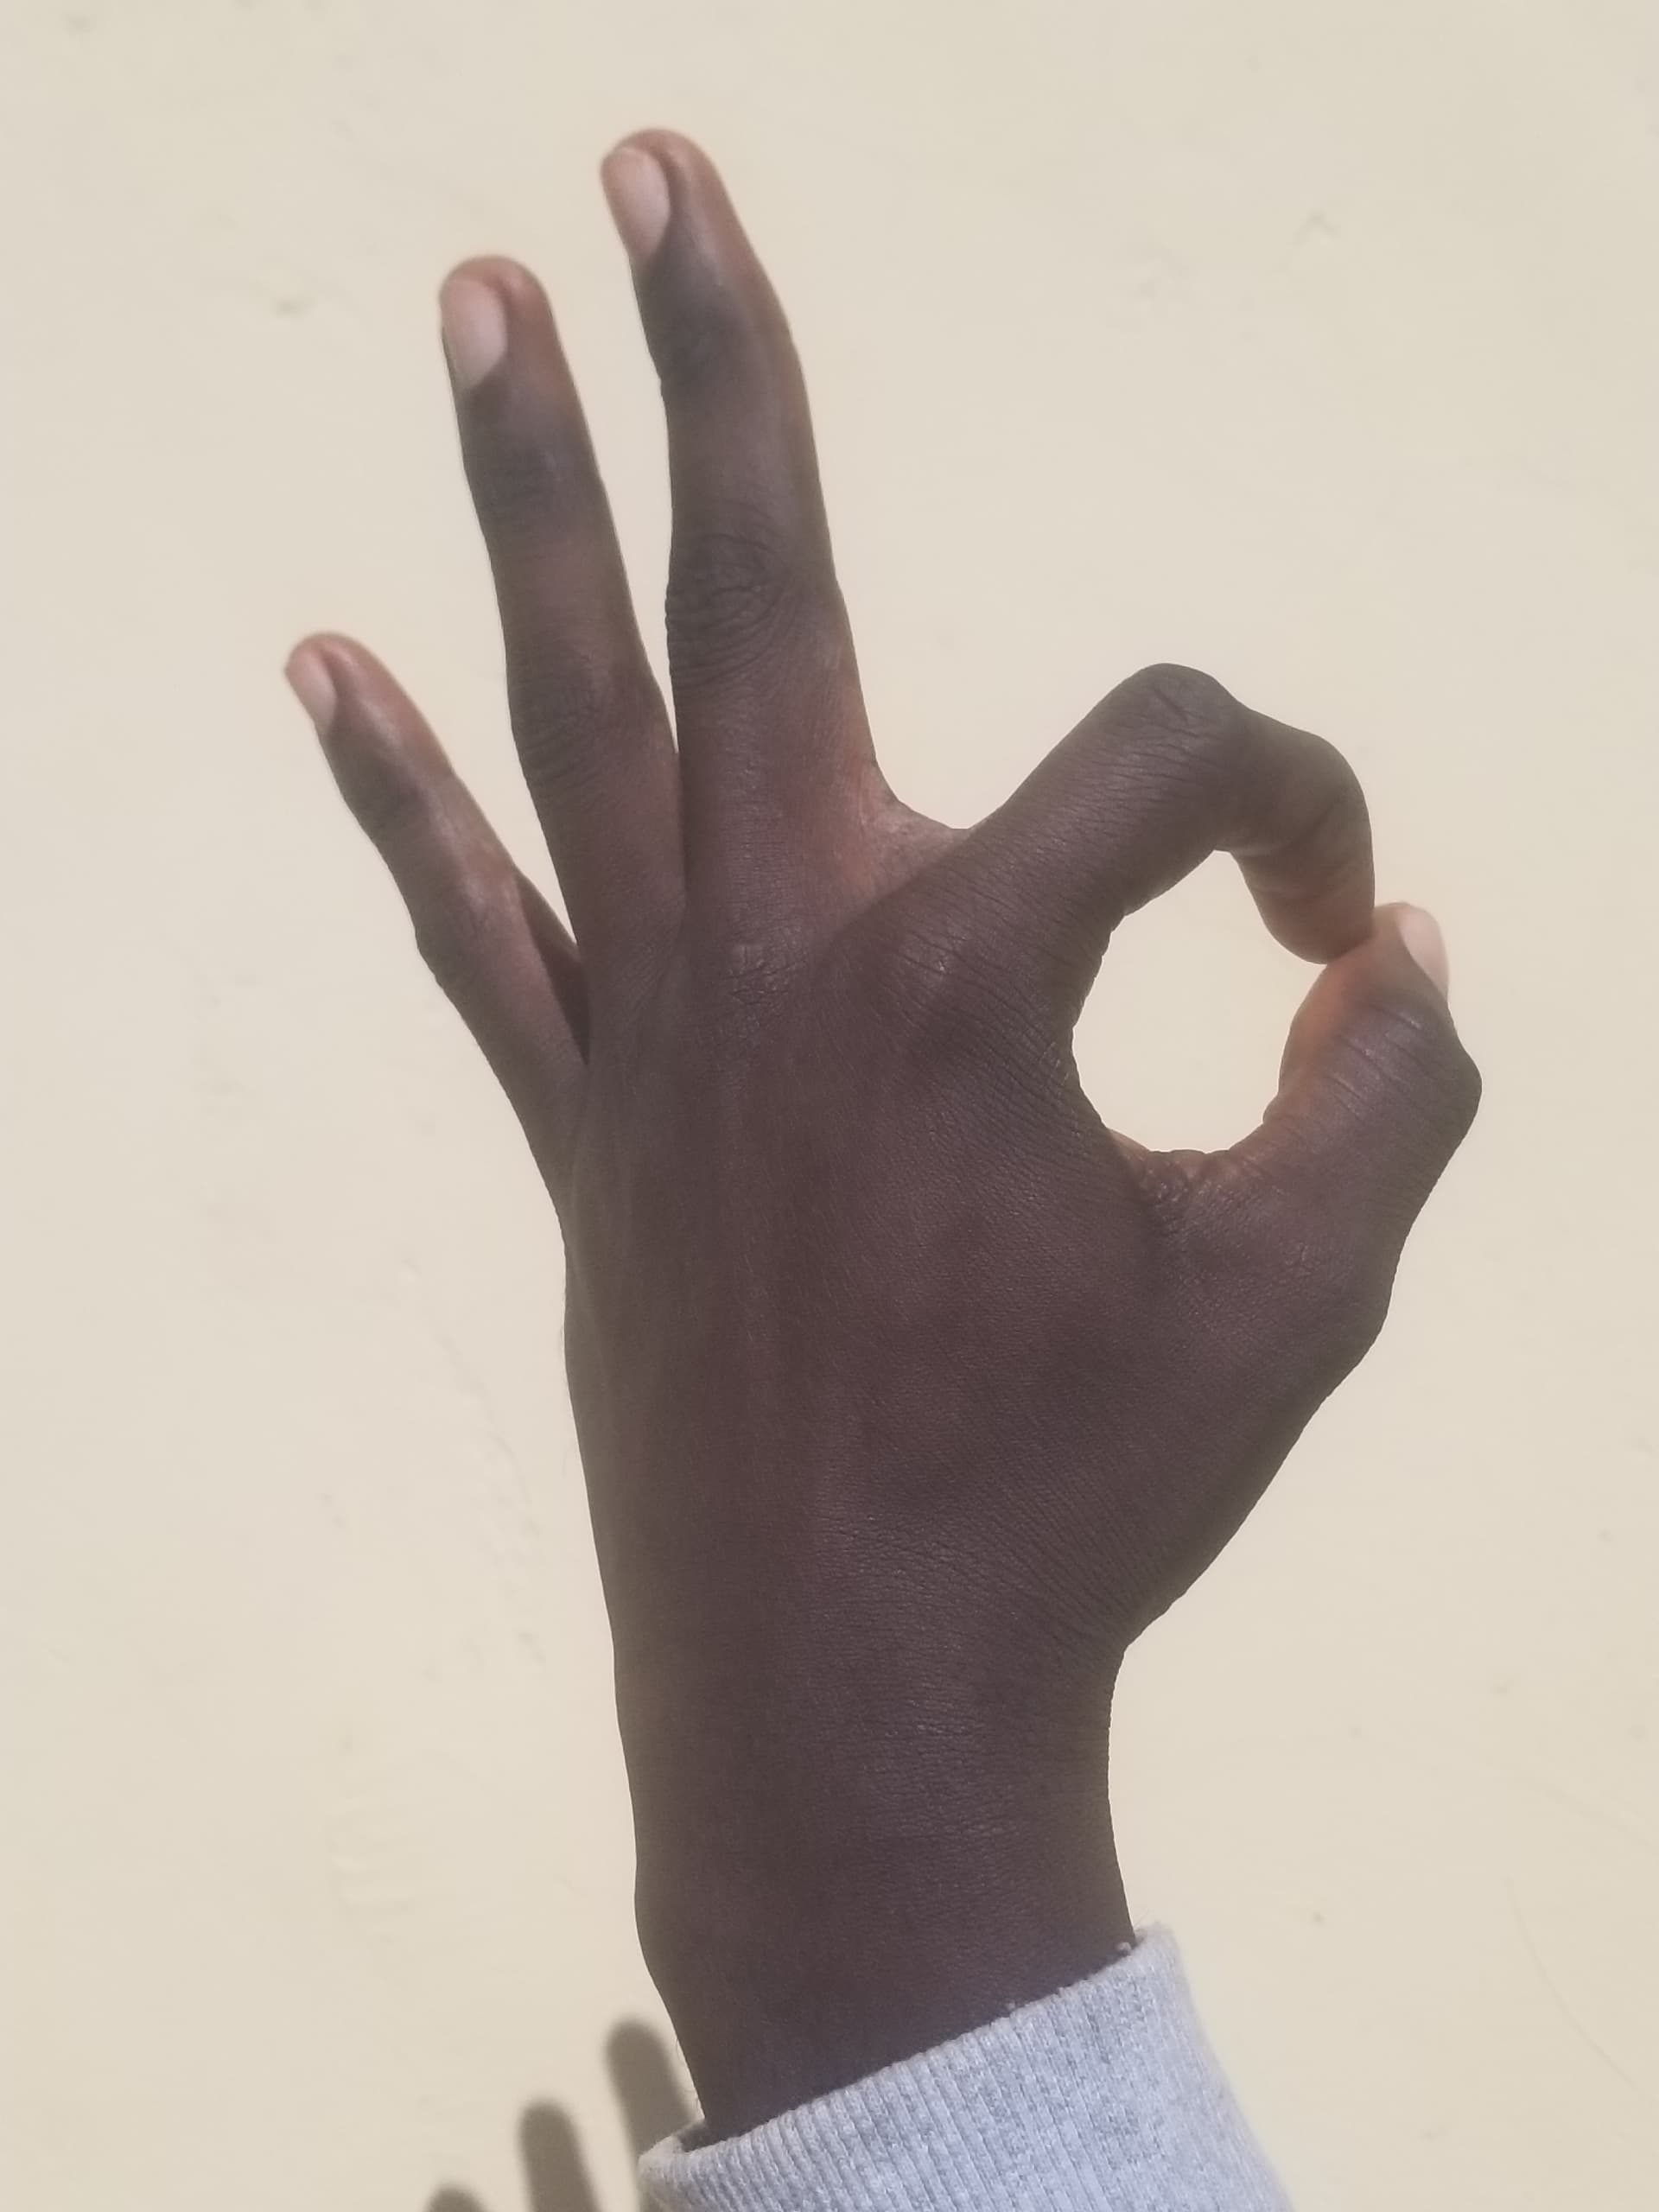okay: (105, 0, 1509, 1867)
